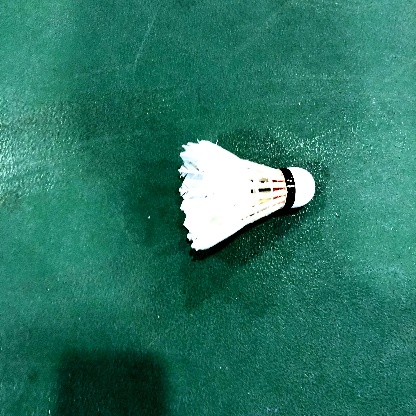ball_single: (178, 140, 315, 250)
